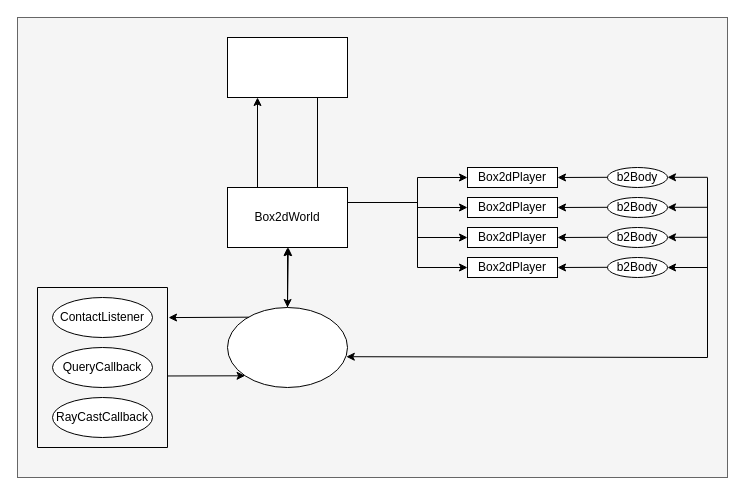
This 745x495 diagram has some shape labels left out. The shapes that lost their labels are listed below. From the top down, each one's box as (x1, y1, x2, y2) in pixels, then its label:
(226, 36, 348, 98): Box2dManager
(226, 306, 348, 388): b2World
